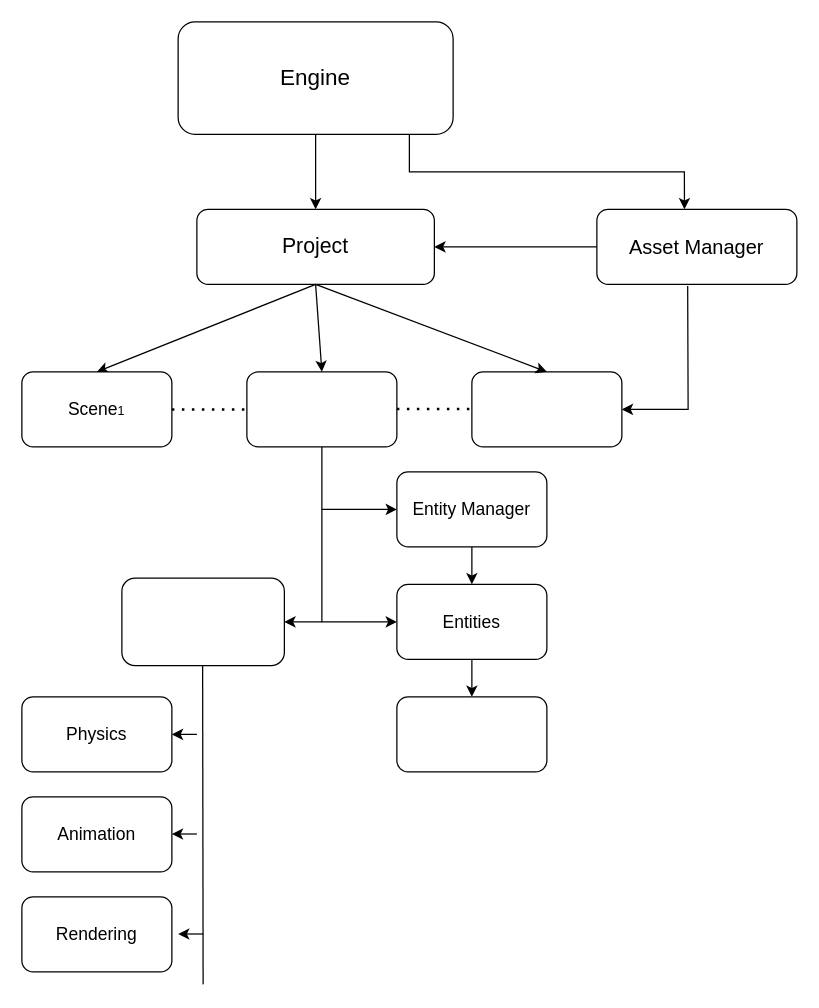
The diagram is 819 pixels wide and 1008 high, and some of its shapes have lost their labels. The box of each missing label's shape, as (x1, y1, x2, y2) in pixels:
Components: (396, 696, 547, 772)
Scene 2: (246, 371, 397, 447)
Scene n: (471, 371, 622, 447)
Systems: (121, 577, 284, 666)
